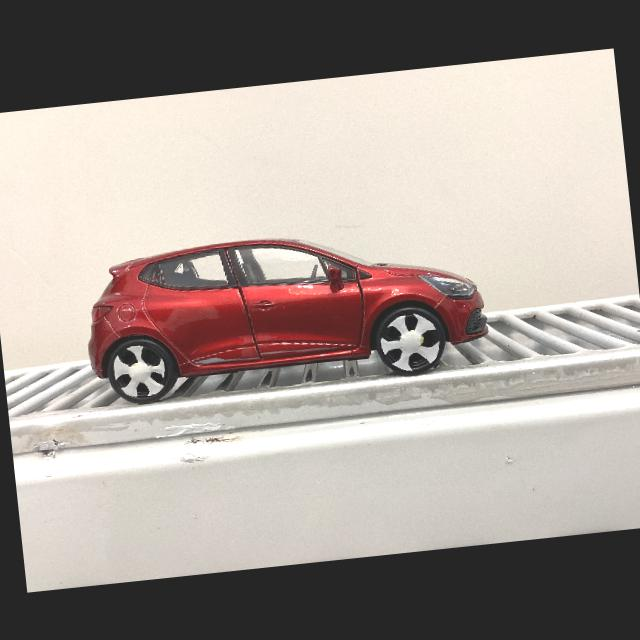Yanlis_Jant: (378, 310, 442, 373), (110, 342, 169, 400)
